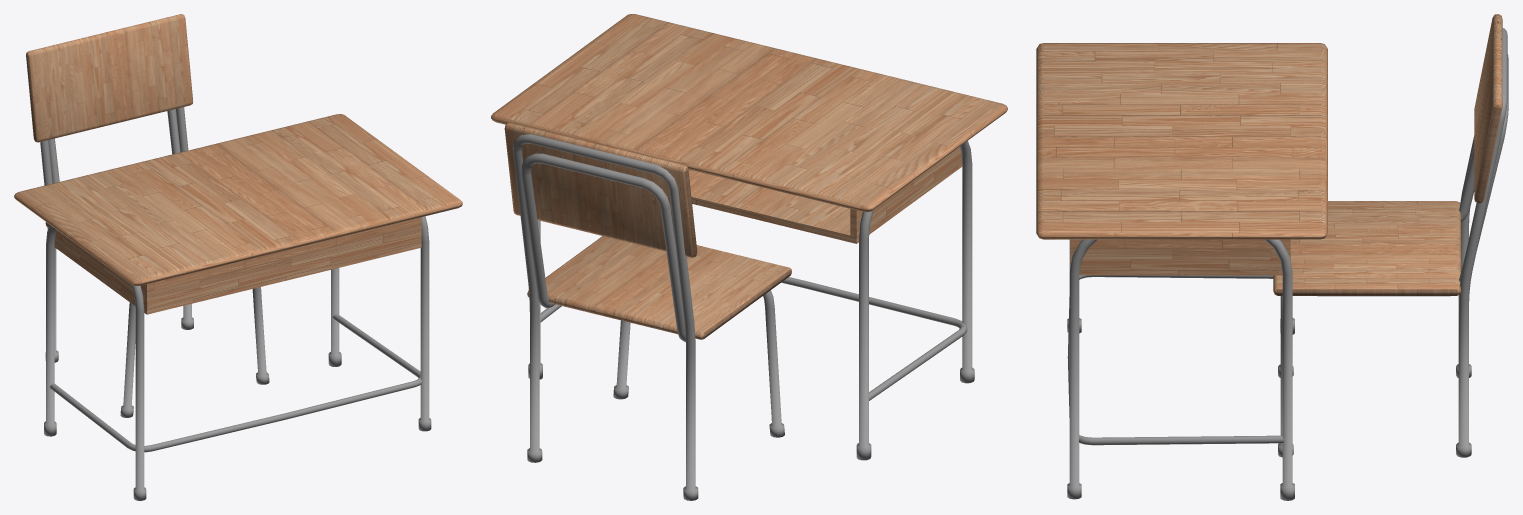
The model's file is desk.fbx.
3 views of the same model, side by side, from view 1: azimuth 30°, elevation 25°; view 2: azimuth 150°, elevation 25°; view 3: azimuth 270°, elevation 25° (orthographic). The views are drawn at different scales.
Visible parts, largest first — view 1: Desk; view 2: Desk; view 3: Desk.
Boxes of the visible parts, <box> form: Desk: <box>14,14,462,500</box>; Desk: <box>491,14,1007,500</box>; Desk: <box>1036,14,1508,500</box>.
Bounding box in the file's own units: 176 × 153 × 183.
2 materials, 1 textured.
